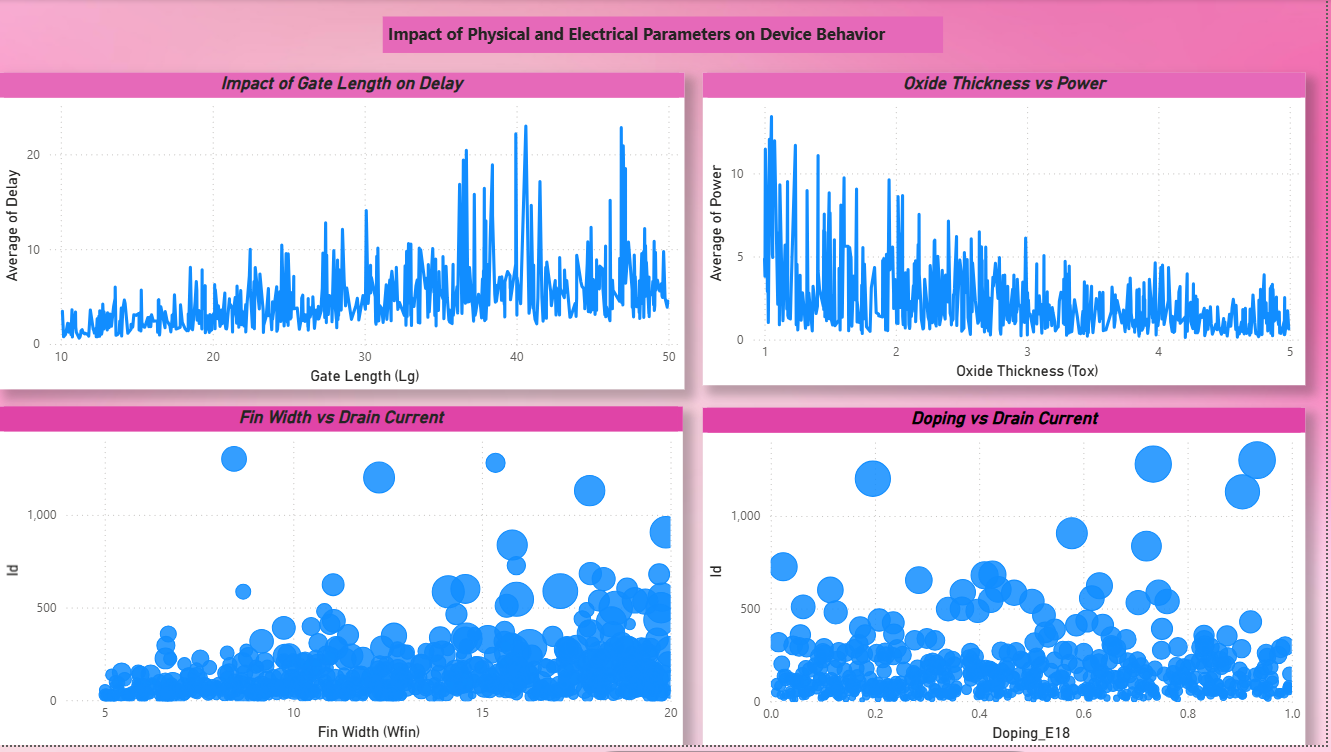

This screenshot's page, from the dashboard's own definition file:
{"tool":"powerbi","page":{"name":"Device Parameter Analysis","canvas":[1280,720],"ordinal":1},"visuals":[{"type":"lineChart","title":"Impact of Gate Length on Delay","fields":{"Category":["VLSI_ML_Dataset.Gate Length (Lg)"],"Y":["Avg(VLSI_ML_Dataset.Delay)"]},"box":[0,71.1,661.3,305.8],"z":0},{"type":"scatterChart","title":"Fin Width vs Drain Current","fields":{"Size":["Avg(VLSI_ML_Dataset.Power)"],"X":["VLSI_ML_Dataset.Fin Width (Wfin)"],"Y":["VLSI_ML_Dataset.Id"]},"box":[0,393.3,660.3,327.5],"z":1000},{"type":"lineChart","title":" Oxide Thickness vs Power","fields":{"Category":["VLSI_ML_Dataset.Oxide Thickness (Tox)"],"Y":["Avg(VLSI_ML_Dataset.Power)"]},"box":[679.8,71.1,581.7,301.5],"z":2000},{"type":"scatterChart","title":"Doping vs Drain Current","fields":{"Size":["Avg(VLSI_ML_Dataset.Ion)"],"X":["VLSI_ML_Dataset.Doping_E18"],"Y":["VLSI_ML_Dataset.Id"]},"box":[679.8,394,581.7,327.1],"z":3000},{"type":"textbox","box":[369.8,17.1,540.4,35.6],"z":3001}]}

Visuals, with their boxes in screenshot pixels (x1, y1, x2, y2), scaled from the page's 1280x720 canvas onto the 1331x752 screenshot:
"Impact of Gate Length on Delay" lineChart: pyautogui.locateOnScreen(0, 74, 688, 394)
"Fin Width vs Drain Current" scatterChart: pyautogui.locateOnScreen(0, 411, 687, 751)
" Oxide Thickness vs Power" lineChart: pyautogui.locateOnScreen(707, 74, 1312, 389)
"Doping vs Drain Current" scatterChart: pyautogui.locateOnScreen(707, 412, 1312, 751)
textbox: pyautogui.locateOnScreen(385, 18, 946, 55)
